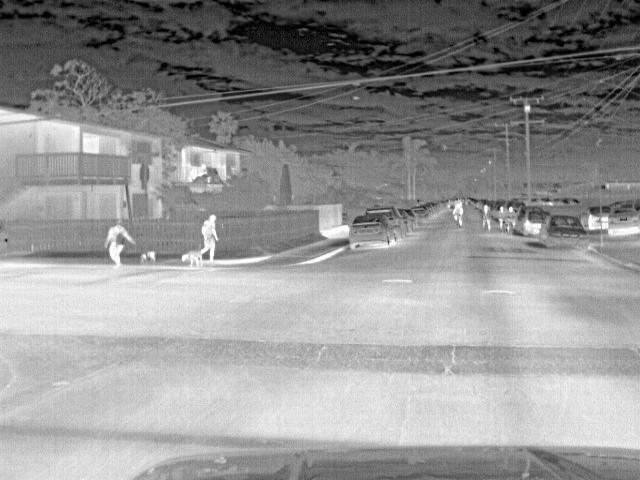car: (347, 213, 397, 253), (359, 206, 406, 243), (539, 218, 588, 250), (607, 206, 639, 237), (519, 208, 552, 234), (580, 206, 600, 232), (398, 209, 417, 229), (601, 206, 613, 232)
dog: (180, 245, 207, 266), (138, 250, 158, 268)
person: (102, 220, 132, 266), (197, 214, 220, 264), (451, 200, 466, 230), (505, 204, 518, 232), (480, 200, 492, 230), (496, 204, 508, 232)
